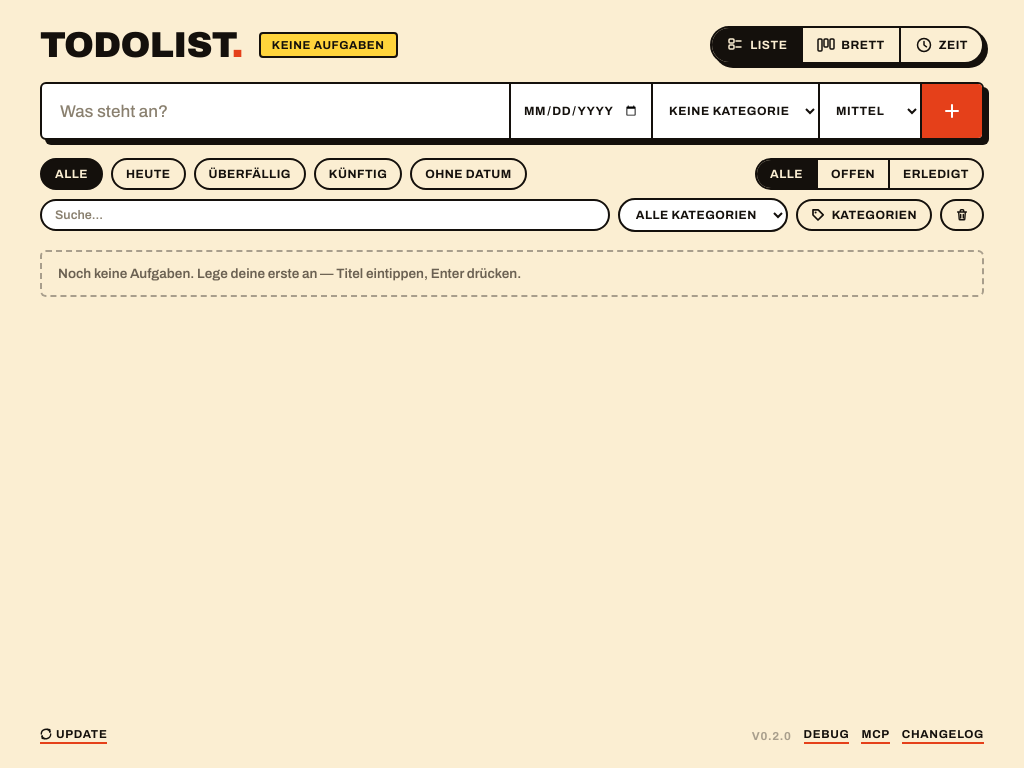
Test case: App › reports a failed update check instead of staying silent
The image size is (1024, 768).
Expected: the text "Noch keine Aufgaben" is shown, [58,266,521,281]
What coordinates should you click on to do the following:
click the button with aria-label "Nach Updates suchen"
I would click on:
 (74, 736)
Its box is [40,728,108,744].
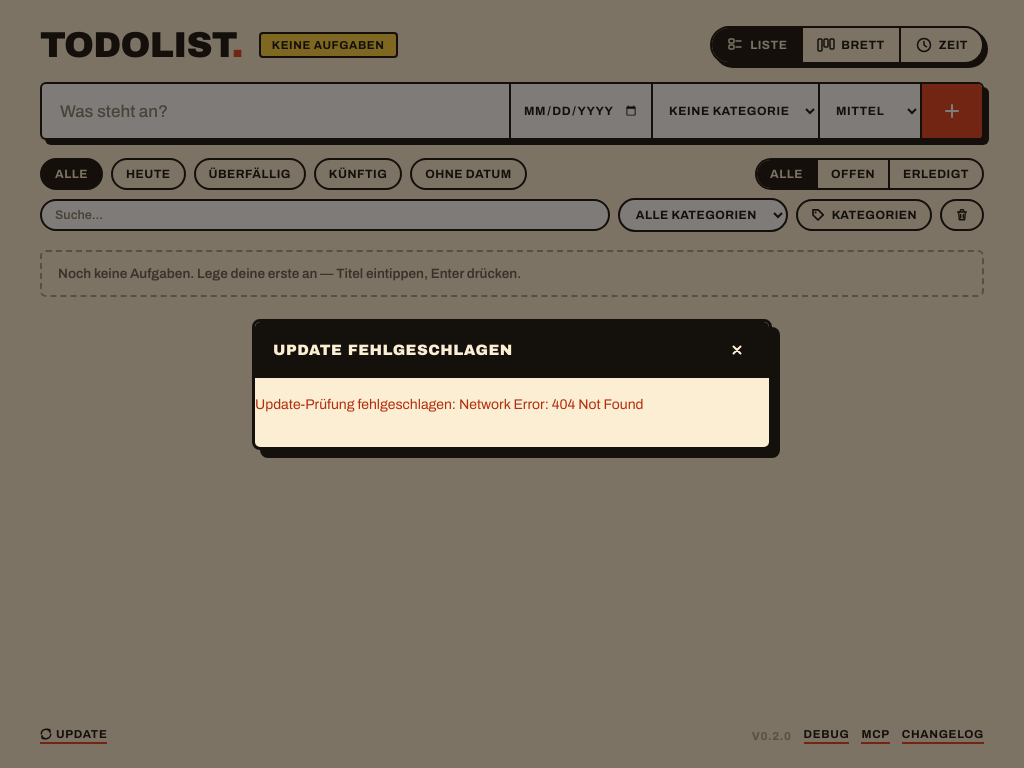
Result: the text "Update-Prüfung fehlgeschlagen: Network Error: 404 Not Found" is shown at [255,396,644,412]
